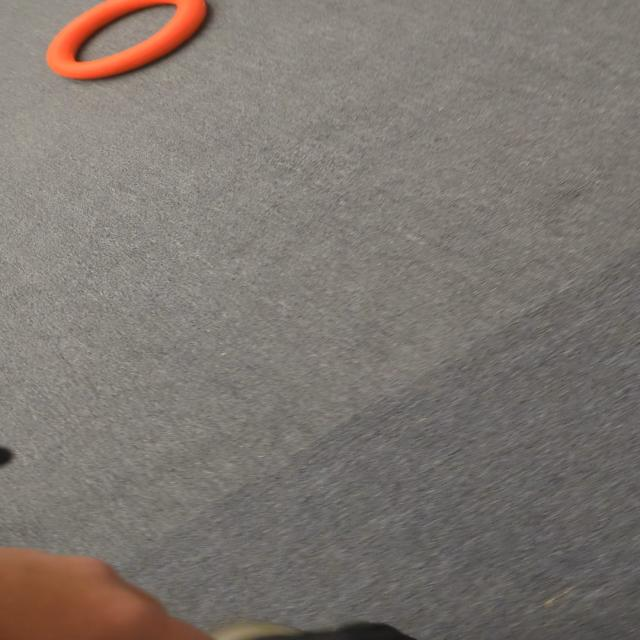note: (47, 3, 212, 78)
